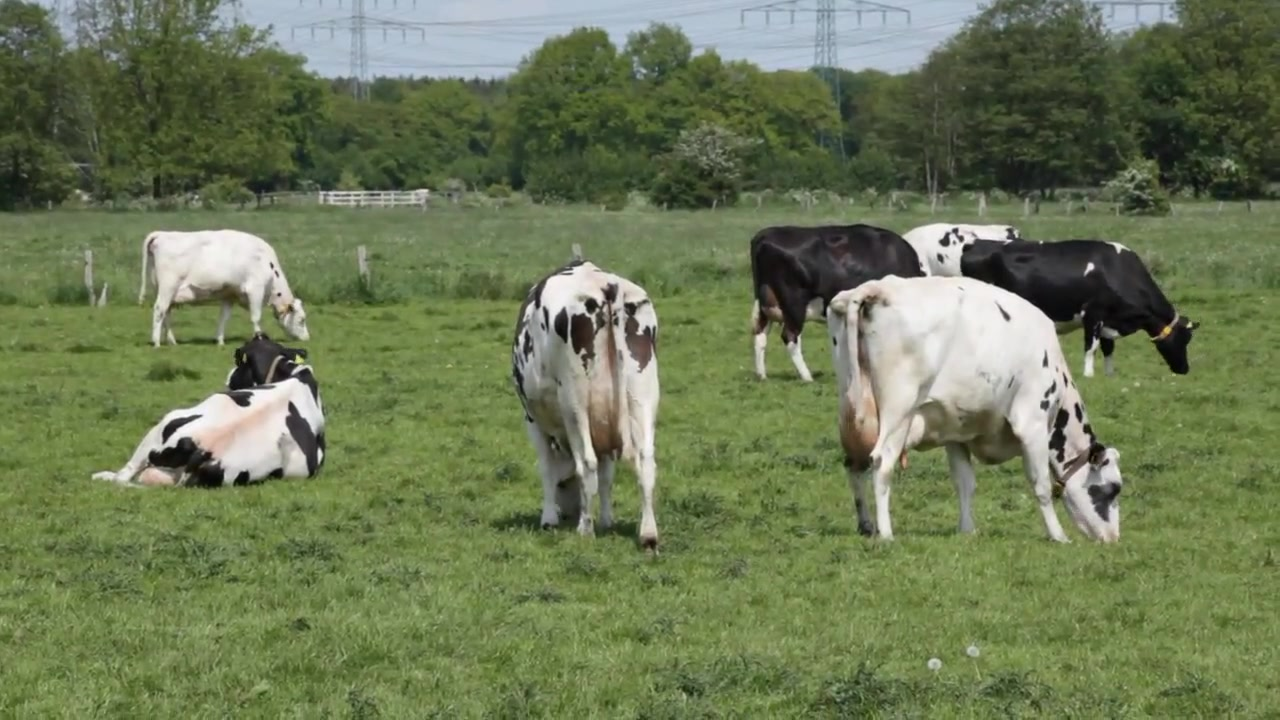cow: (91, 333, 333, 492)
